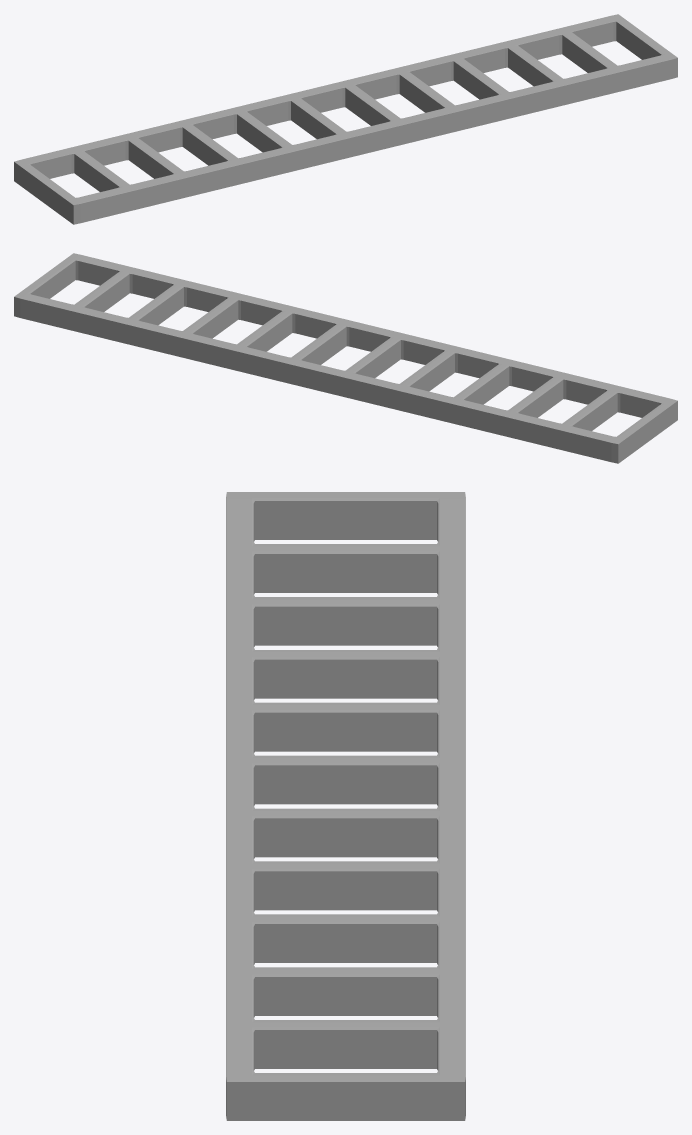
File: Tagrang.fbx
The picture shows the model from 3 angles, top to bottom: view 1: azimuth 30°, elevation 25°; view 2: azimuth 150°, elevation 25°; view 3: azimuth 270°, elevation 25°; orthographic projection. The views are drawn at different scales.
Parts seen in each view (by area): view 1: Cube.002; view 2: Cube.002; view 3: Cube.002.
Part boxes in pixels (left/top/right/bottom): Cube.002: left=14, top=14, right=677, bottom=224; Cube.002: left=14, top=253, right=677, bottom=463; Cube.002: left=226, top=492, right=465, bottom=1120.
Bounding box in the file's own units: 57.95 × 9.97 × 1.8.
1 material, 1 textured.
